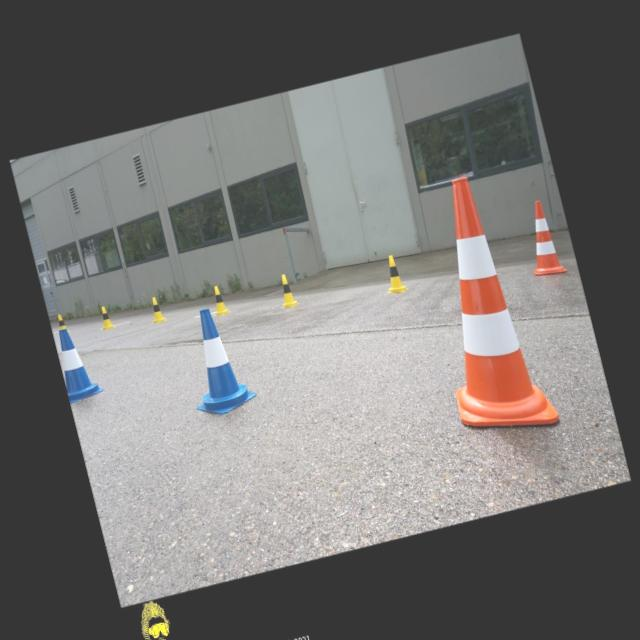blue_cone: (173, 301, 259, 420), (52, 322, 105, 402)
large_orange_cone: (404, 168, 560, 444), (516, 197, 566, 279)
yellow_cone: (378, 253, 406, 295), (273, 272, 298, 308), (209, 284, 228, 316), (96, 304, 115, 331), (147, 296, 165, 324), (56, 312, 70, 334)
